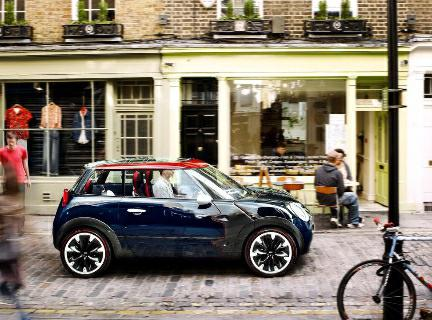MINI-ROCKETMAN: (54, 156, 314, 279)
